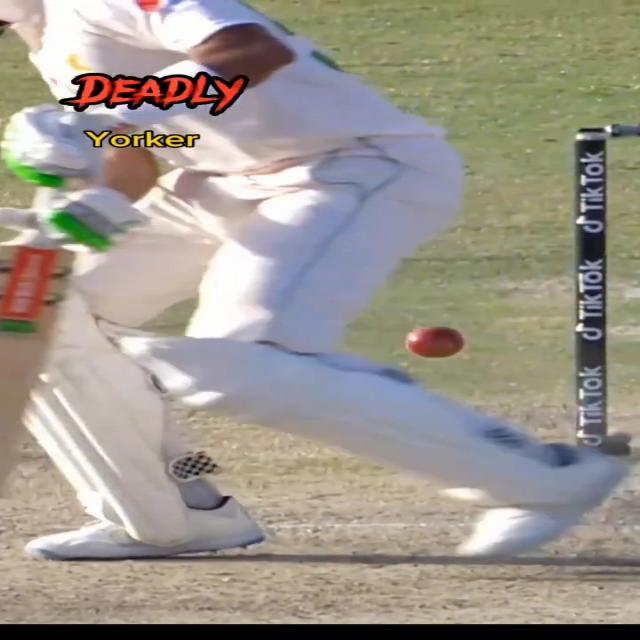Cricket ball: (402, 324, 469, 360)
